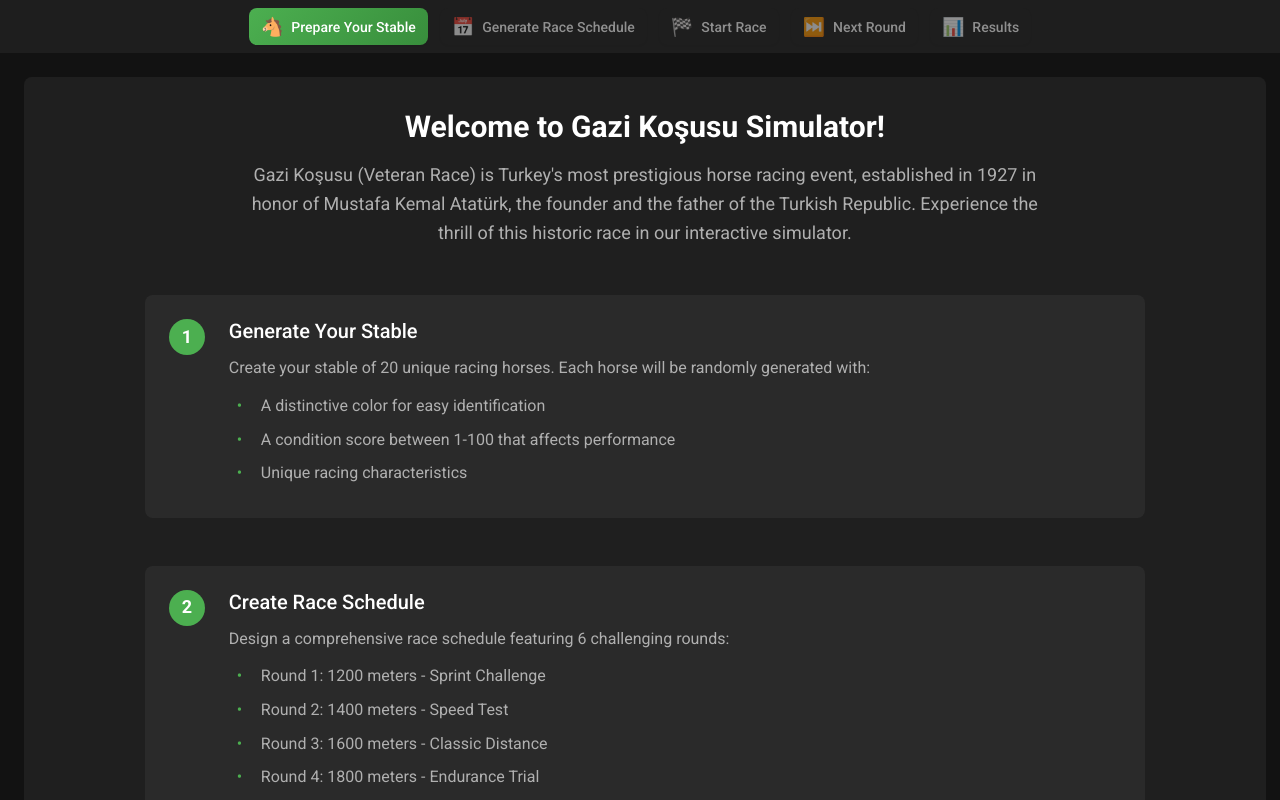
Test case: Gallop Arena › should be able to start and complete a race
Note: Generate horses first
Click the button with test id "header-button-generate-horses": (339, 27) [249,8,428,45]
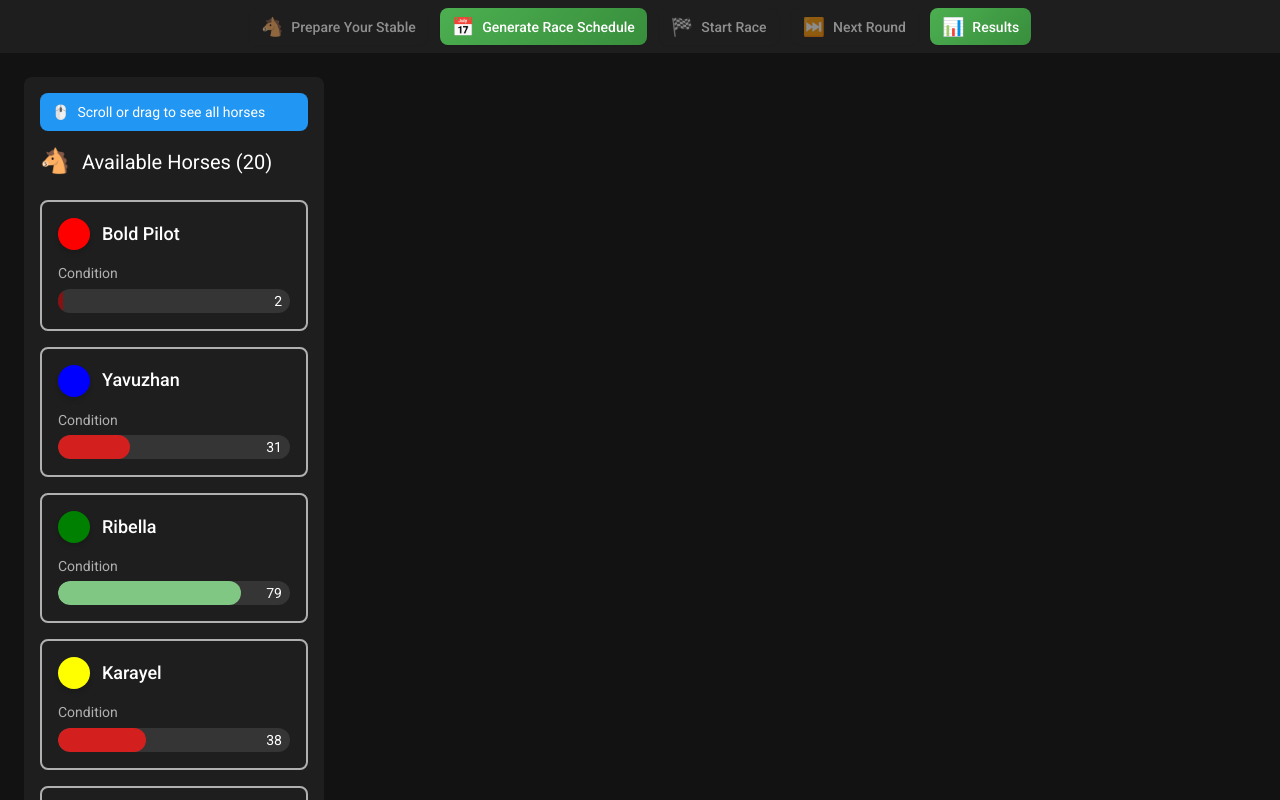
Result: the element with test id "horse-list" is shown at [24,77,324,799]
Note: Generate race schedule
Click the button with test id "header-button-generate-schedule": (544, 27) [440,8,647,45]
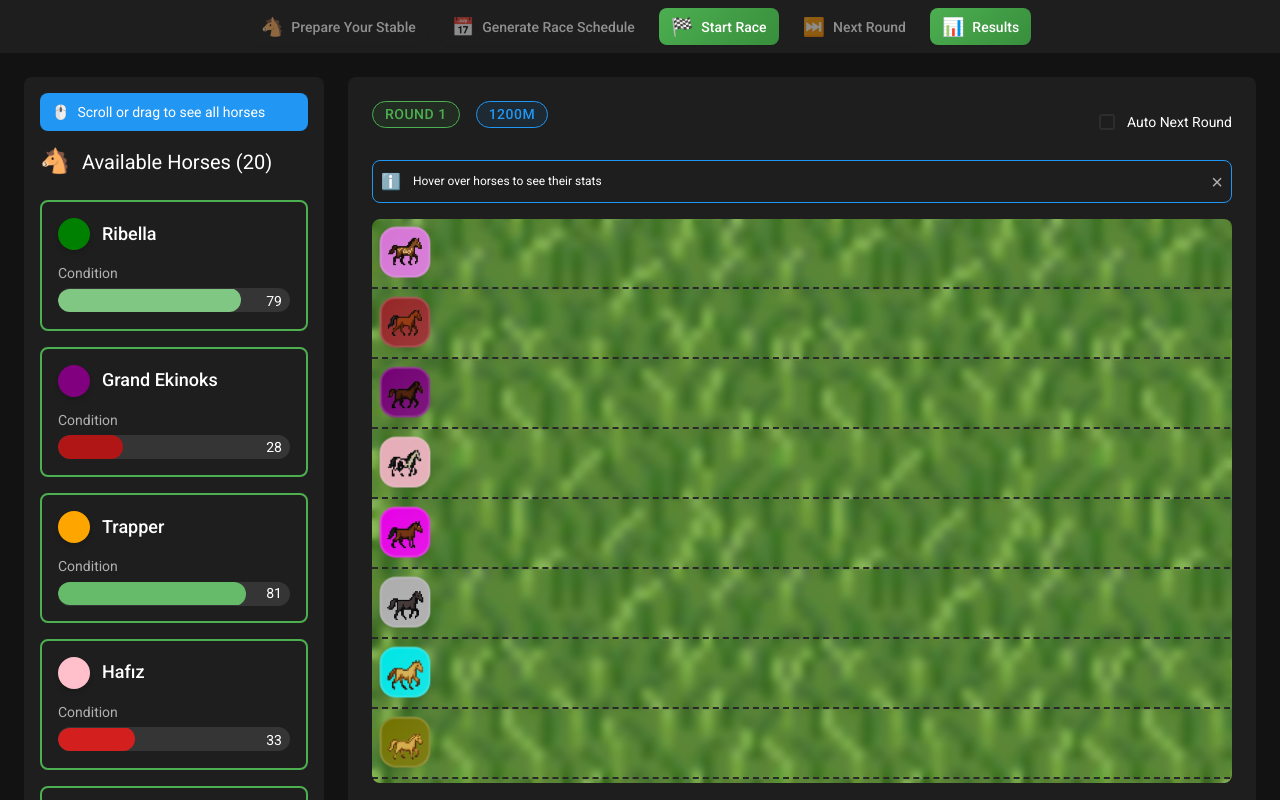
Note: Start the race
Click the button with test id "header-button-start-race": (719, 27) [659,8,779,45]
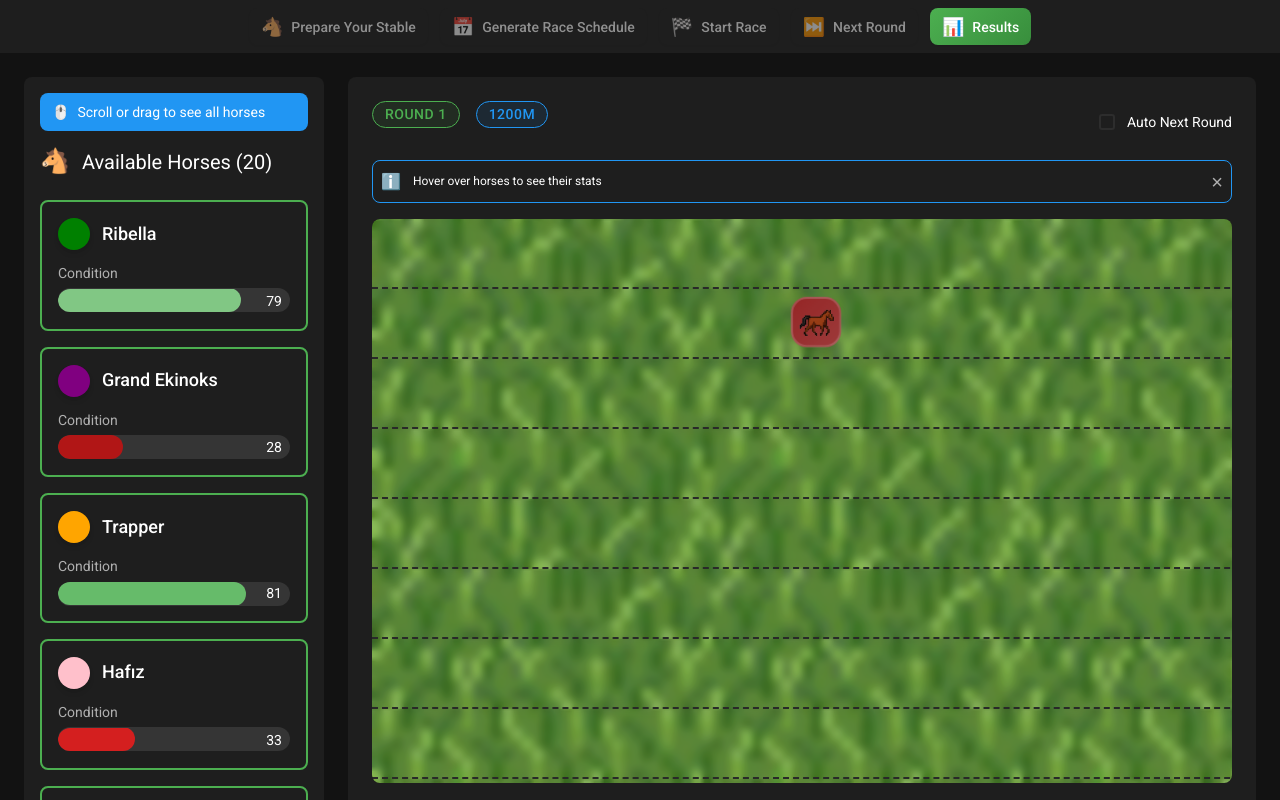
Result: the element with test id "race-view" is shown
Result: the element with test id "race-track" is shown at [372,219,1232,783]
Result: the number of elements with test id "race-horse" is more than 0
